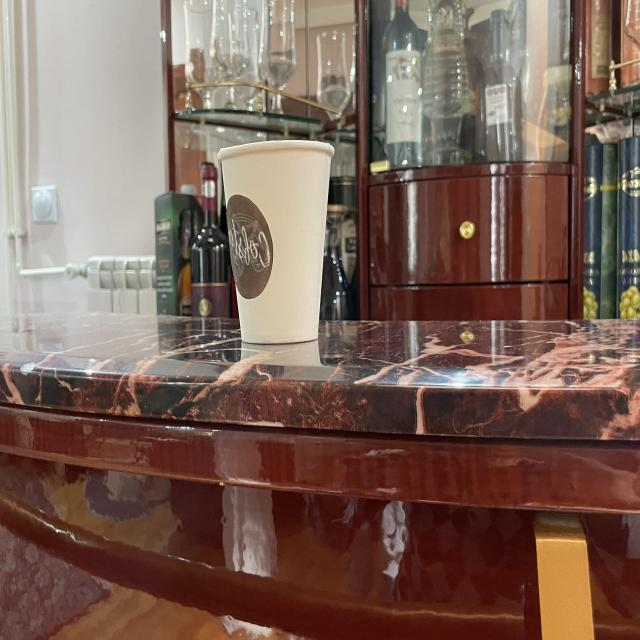medium: (215, 134, 337, 352)
